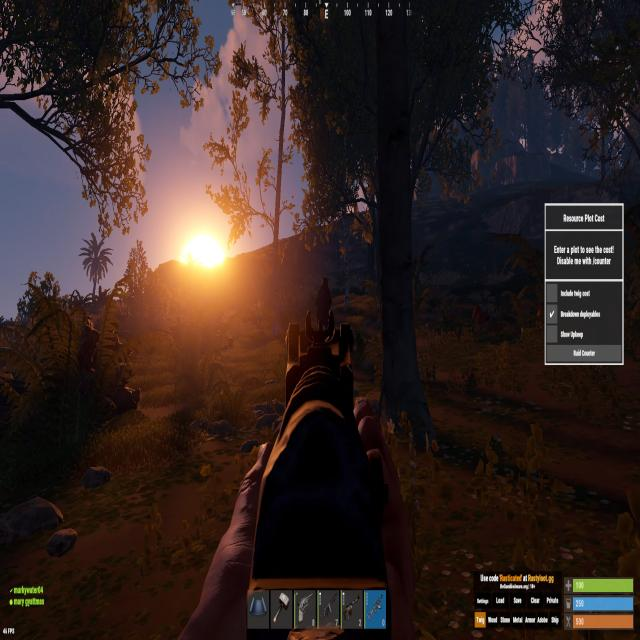Player: (316, 274, 332, 330)
